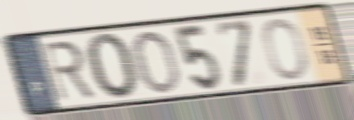5: (169, 21, 225, 94)
7: (216, 17, 254, 90)
O: (84, 31, 141, 102), (132, 28, 183, 96), (261, 16, 310, 82)
R: (40, 38, 99, 105)
